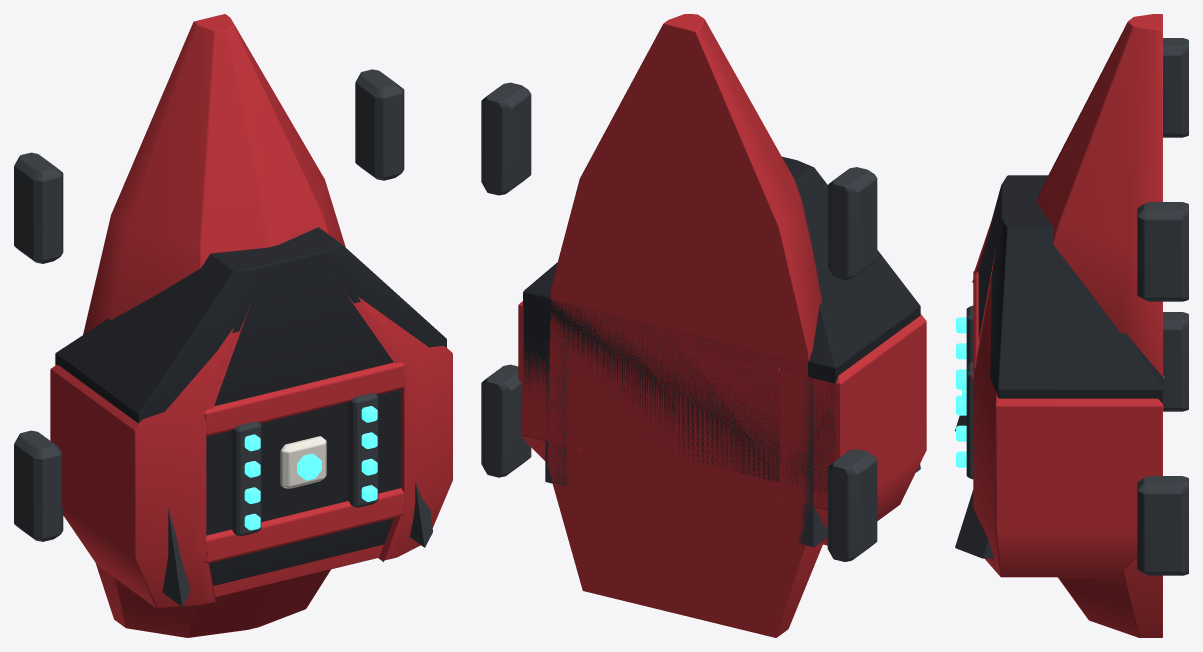
The model's file is CalfFront_Set10_Aegis.fbx.
The picture shows the model from 3 angles, left to right: view 1: azimuth 30°, elevation 25°; view 2: azimuth 150°, elevation 25°; view 3: azimuth 270°, elevation 25°; orthographic projection. The views are drawn at different scales.
Visible parts, largest first — view 1: CalfFront_Set10_Aegis; view 2: CalfFront_Set10_Aegis; view 3: CalfFront_Set10_Aegis.
Part boxes in pixels (<box>): CalfFront_Set10_Aegis: <box>14,14,452,637</box>; CalfFront_Set10_Aegis: <box>481,14,926,637</box>; CalfFront_Set10_Aegis: <box>955,14,1188,637</box>.
Size of the model in its own units: 0.49 by 0.73 by 0.2711.
